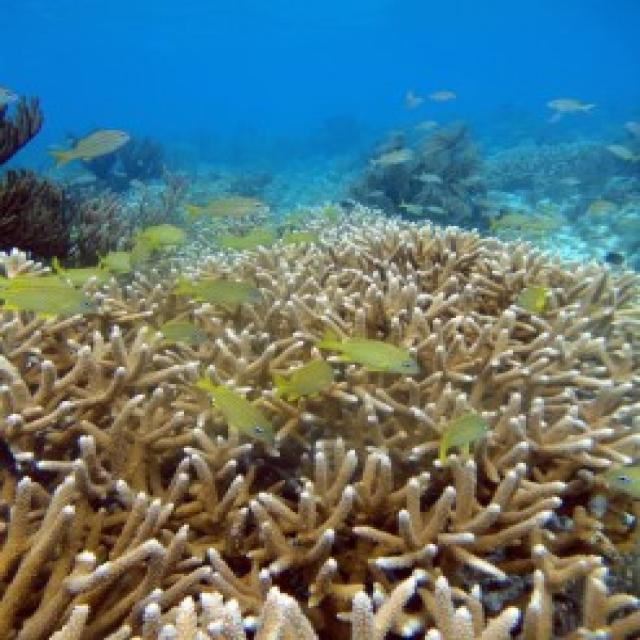Healthy: (1, 216, 638, 639)
